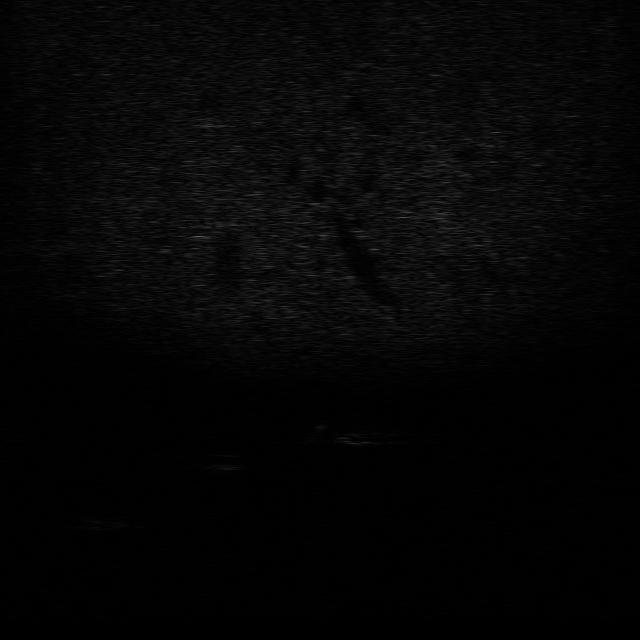ball: (206, 449, 252, 473)
circle cage: (65, 504, 136, 531)
human body: (299, 418, 415, 449)
